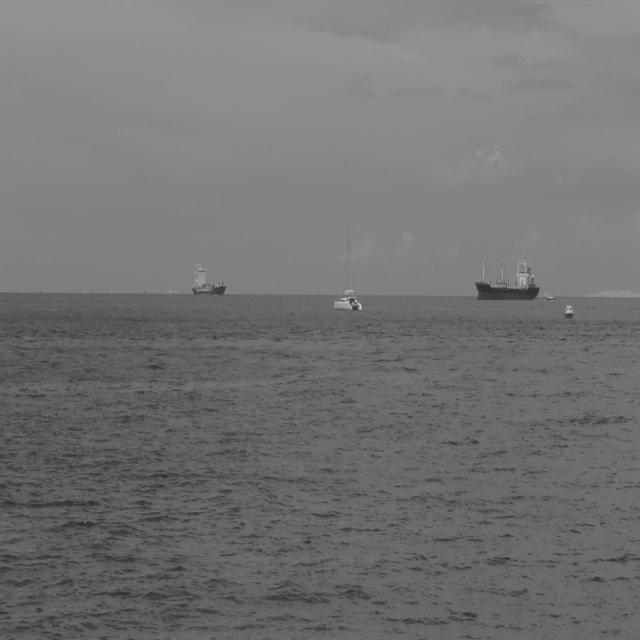ship: (472, 250, 541, 302), (332, 220, 363, 312), (190, 260, 228, 298), (562, 302, 574, 321), (545, 291, 555, 301)
